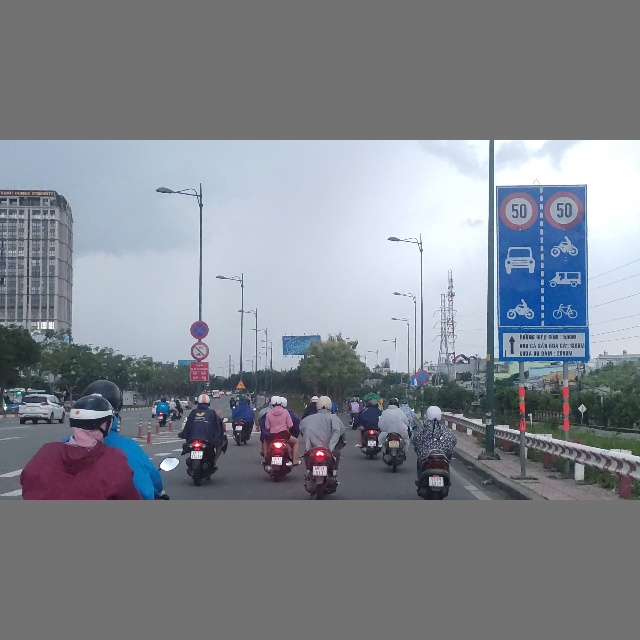P.111: (191, 342, 209, 360)
P.127*50: (500, 191, 540, 232), (543, 191, 583, 230)
P.130: (190, 321, 209, 339)
P.131a: (415, 370, 429, 384)
R.415a: (498, 233, 588, 327)
W.201a: (235, 379, 247, 389)
